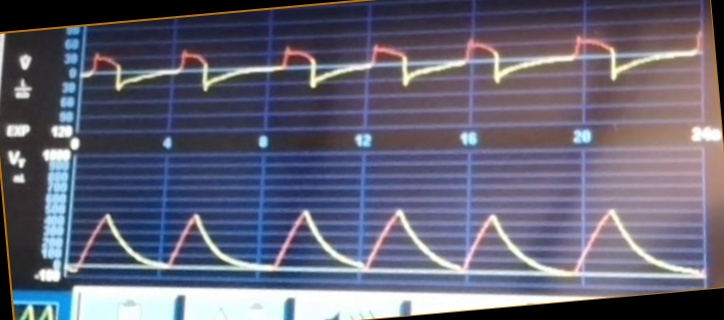Normal Flow: (85, 26, 704, 114)
Normal Volume: (72, 193, 704, 285)
